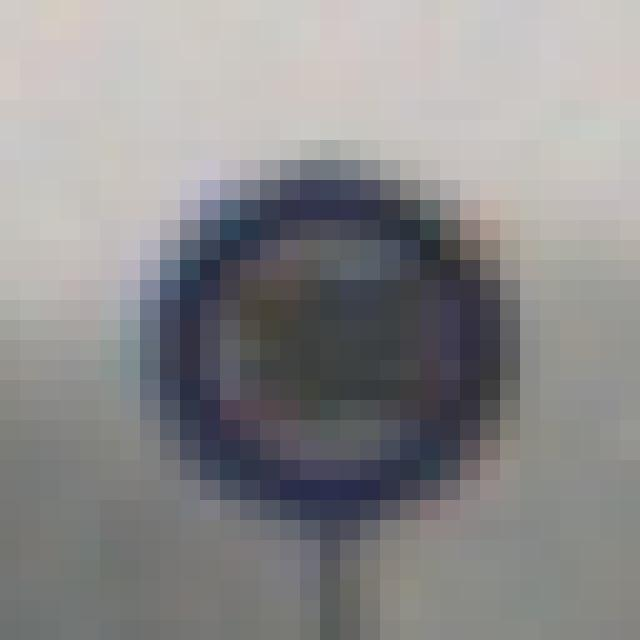SPEED LIMIT 100: (157, 185, 508, 516)
